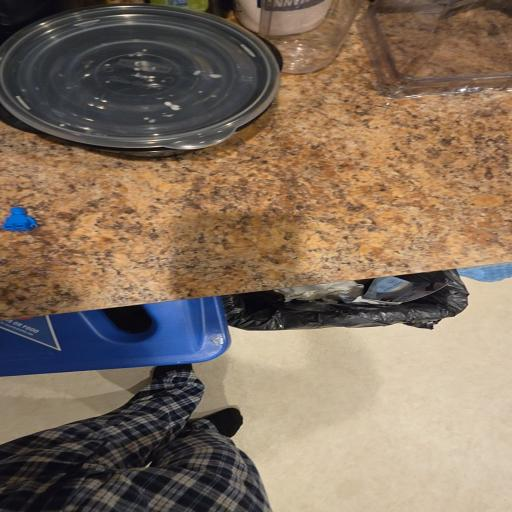Blue: (2, 207, 38, 231)
